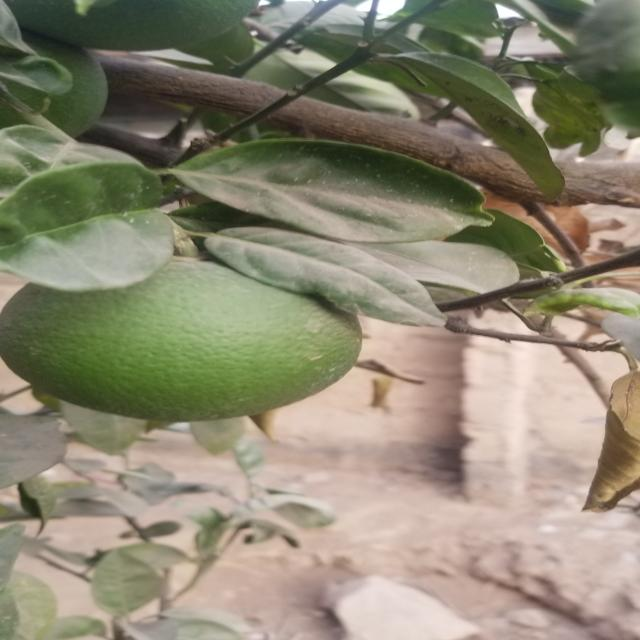Unripe: (10, 262, 349, 421)
